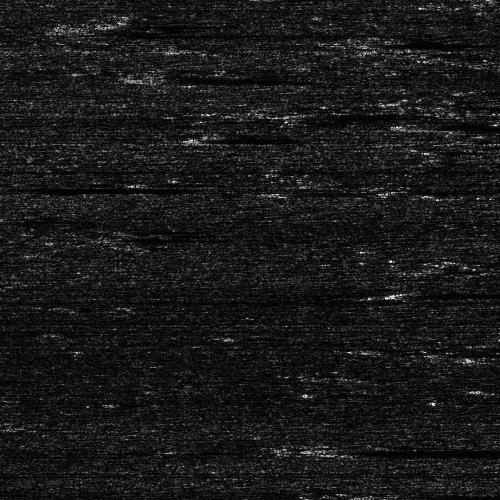rock: (321, 30, 414, 51), (267, 443, 392, 456), (50, 19, 133, 36), (120, 70, 203, 87), (326, 491, 419, 500), (173, 130, 226, 143), (396, 119, 459, 128), (0, 184, 40, 195), (363, 290, 416, 297)
shadow: (368, 30, 484, 51), (162, 70, 304, 87), (92, 19, 229, 36), (330, 443, 500, 456), (200, 130, 312, 143), (0, 184, 124, 195), (373, 491, 498, 500), (390, 290, 500, 297), (428, 119, 500, 128)
